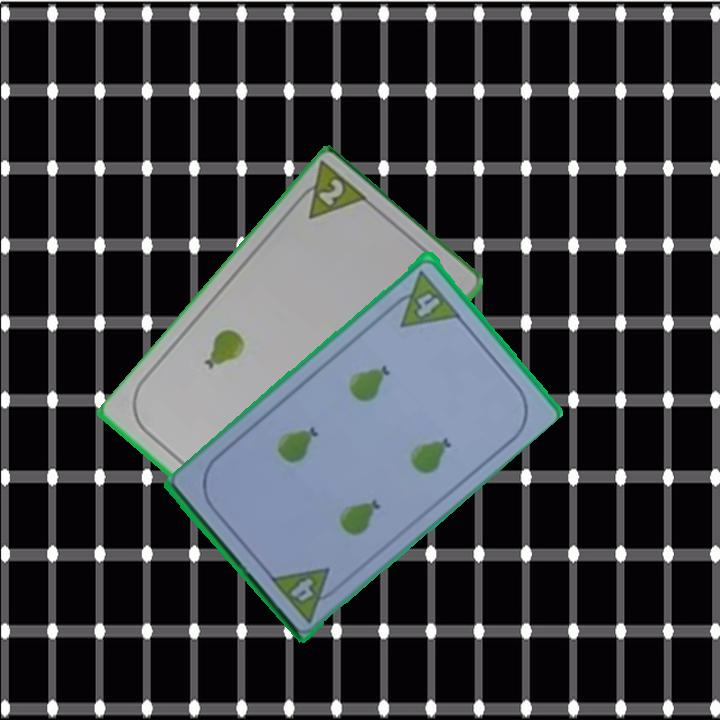2p: (314, 175, 347, 210)
4p: (384, 266, 463, 330), (267, 562, 346, 625)
